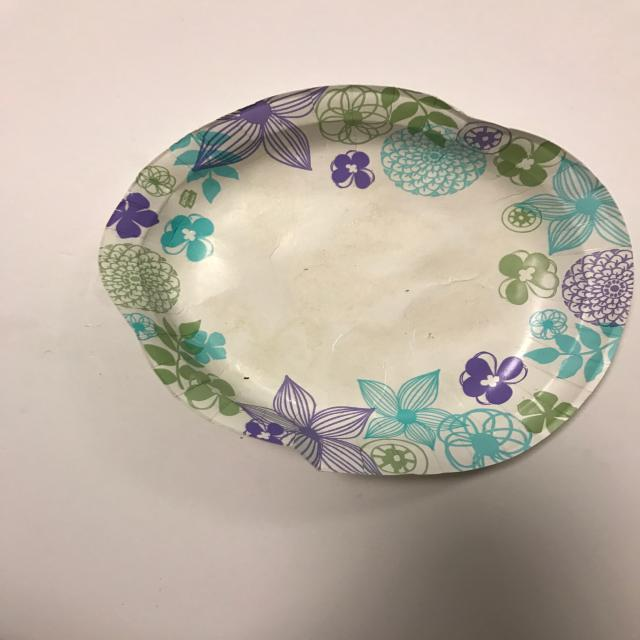paper: (97, 85, 640, 480)
